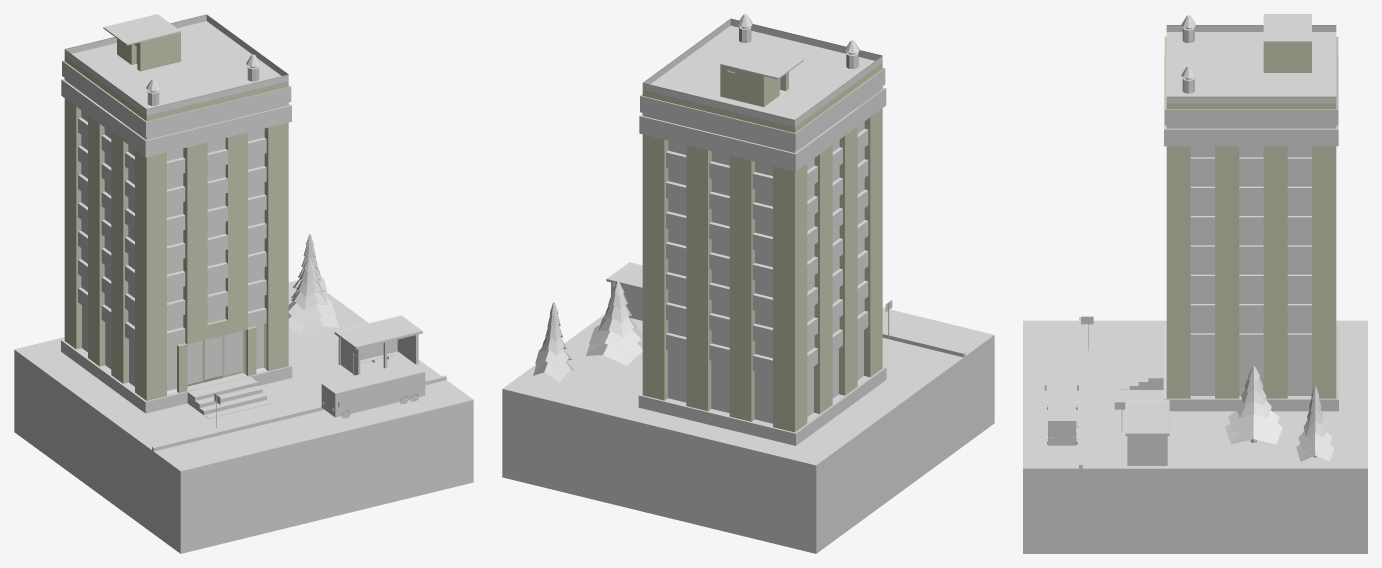
Rendered from Building.fbx.
3 renders of one model, left to right at view 1: azimuth 30°, elevation 25°; view 2: azimuth 150°, elevation 25°; view 3: azimuth 270°, elevation 25°, orthographic. The views are drawn at different scales.
Parts seen in each view (by area): view 1: Cube, Cube.001, Cube.004, Plane.002, Cylinder.002; view 2: Cube, Cube.001, Cylinder.002, Cylinder.005, Plane.002; view 3: Cube, Cube.001, Plane.002, Cylinder.002, Cube.004, Cylinder.005.
Part boxes in pixels (x1,y1,x2,y2): Cube: [61, 14, 292, 418]; Cube.001: [14, 280, 473, 553]; Cube.004: [321, 361, 425, 417]; Plane.002: [334, 315, 422, 374]; Cylinder.002: [288, 258, 339, 336]; Cube: [638, 18, 886, 445]; Cube.001: [502, 307, 994, 553]; Cylinder.002: [586, 281, 642, 365]; Cylinder.005: [533, 302, 574, 381]; Plane.002: [606, 262, 642, 295]; Cube: [1120, 14, 1338, 411]; Cube.001: [1023, 317, 1367, 553]; Plane.002: [1125, 400, 1169, 465]; Cylinder.002: [1225, 366, 1282, 444]; Cube.004: [1048, 375, 1076, 445]; Cylinder.005: [1296, 386, 1333, 461].
Size of the model in its own units: 413 by 551 by 406.
